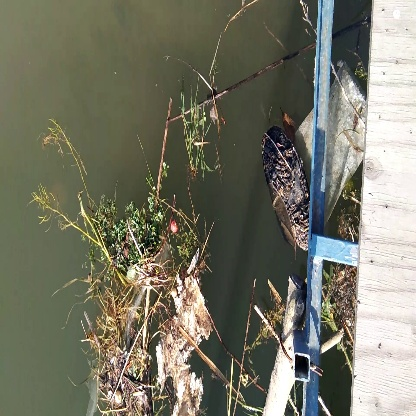plastic-garbage: (259, 126, 314, 248)
